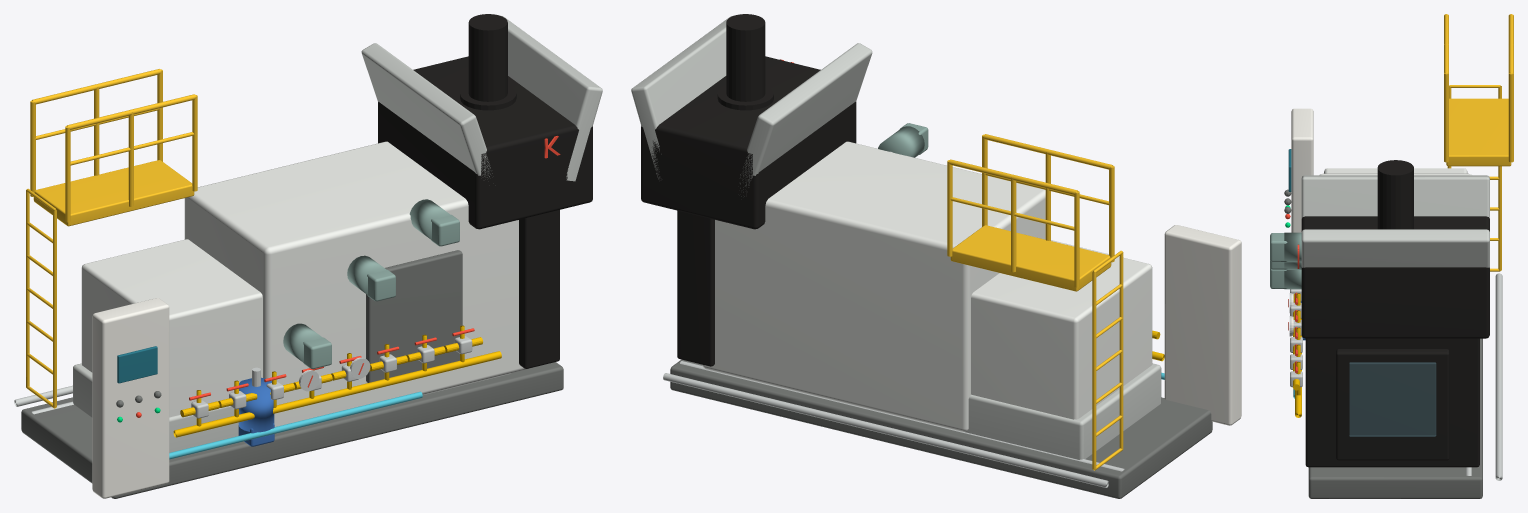
File: photo_multipurpose_furnace.glb
3 views of the same model, side by side, from view 1: azimuth 30°, elevation 25°; view 2: azimuth 150°, elevation 25°; view 3: azimuth 270°, elevation 25° (orthographic). The views are drawn at different scales.
Parts seen in each view (by area): view 1: multi_main_rear_chamber, multi_front_service_bay, multi_large_black_exhaust_hood, multi_base_skid, multi_control_cabinet_with_hmi, multi_middle_door_reference, multi_sloped_hood_left_plate, multi_black_furnace_mouth_frame, multi_sloped_hood_right_plate, multi_yellow_upper_platform_deck, multi_top_exhaust_stack, multi_lower_oil_tank (+15 smaller); view 2: multi_main_rear_chamber, multi_front_service_bay, multi_large_black_exhaust_hood, multi_base_skid, multi_control_cabinet_with_hmi, multi_lower_oil_tank, multi_sloped_hood_left_plate, multi_black_furnace_mouth_frame, multi_yellow_upper_platform_deck, multi_sloped_hood_right_plate, multi_front_rail_right, multi_top_exhaust_stack (+7 smaller); view 3: multi_large_black_exhaust_hood, multi_front_heat_door_black_panel, multi_black_furnace_mouth_frame, multi_sloped_hood_right_plate, multi_hearth_glow_window, multi_sloped_hood_left_plate, multi_base_skid, multi_yellow_upper_platform_deck, multi_top_exhaust_stack, multi_control_cabinet_with_hmi, multi_front_rail_right, multi_front_service_bay (+10 smaller).
Boxes of the visible parts, left/top/right/bottom form: multi_main_rear_chamber: left=184, top=141, right=528, bottom=426; multi_front_service_bay: left=81, top=239, right=262, bottom=417; multi_large_black_exhaust_hood: left=378, top=56, right=592, bottom=229; multi_base_skid: left=21, top=362, right=563, bottom=498; multi_control_cabinet_with_hmi: left=92, top=298, right=169, bottom=498; multi_middle_door_reference: left=366, top=250, right=462, bottom=382; multi_sloped_hood_left_plate: left=361, top=43, right=492, bottom=177; multi_black_furnace_mouth_frame: left=519, top=210, right=559, bottom=368; multi_sloped_hood_right_plate: left=500, top=15, right=602, bottom=181; multi_yellow_upper_platform_deck: left=33, top=160, right=194, bottom=226; multi_top_exhaust_stack: left=468, top=14, right=507, bottom=101; multi_lower_oil_tank: left=73, top=363, right=511, bottom=452; multi_main_rear_chamber: left=702, top=141, right=1045, bottom=431; multi_front_service_bay: left=971, top=240, right=1152, bottom=419; multi_large_black_exhaust_hood: left=641, top=56, right=856, bottom=229; multi_base_skid: left=670, top=359, right=1212, bottom=498; multi_control_cabinet_with_hmi: left=1164, top=225, right=1241, bottom=425; multi_lower_oil_tank: left=965, top=363, right=1161, bottom=459; multi_sloped_hood_left_plate: left=740, top=43, right=872, bottom=196; multi_black_furnace_mouth_frame: left=677, top=210, right=714, bottom=366; multi_yellow_upper_platform_deck: left=950, top=225, right=1111, bottom=291; multi_sloped_hood_right_plate: left=631, top=15, right=733, bottom=179; multi_front_rail_right: left=663, top=373, right=1108, bottom=487; multi_top_exhaust_stack: left=726, top=14, right=765, bottom=101; multi_large_black_exhaust_hood: left=1301, top=216, right=1489, bottom=338; multi_front_heat_door_black_panel: left=1336, top=349, right=1449, bottom=460; multi_black_furnace_mouth_frame: left=1305, top=338, right=1479, bottom=467; multi_sloped_hood_right_plate: left=1301, top=229, right=1489, bottom=267; multi_hearth_glow_window: left=1349, top=362, right=1436, bottom=436; multi_sloped_hood_left_plate: left=1301, top=175, right=1489, bottom=218; multi_base_skid: left=1308, top=338, right=1482, bottom=498; multi_yellow_upper_platform_deck: left=1446, top=98, right=1511, bottom=166; multi_top_exhaust_stack: left=1377, top=160, right=1413, bottom=229; multi_control_cabinet_with_hmi: left=1291, top=108, right=1313, bottom=232; multi_front_rail_right: left=1495, top=273, right=1502, bottom=480; multi_front_service_bay: left=1324, top=168, right=1467, bottom=173.
Size of the model in its own units: 5.38 by 3.47 by 2.4.
